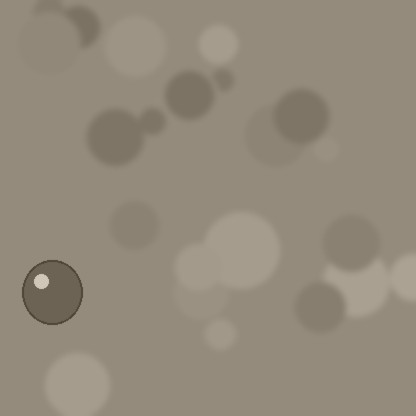gota: (22, 262, 82, 330)
